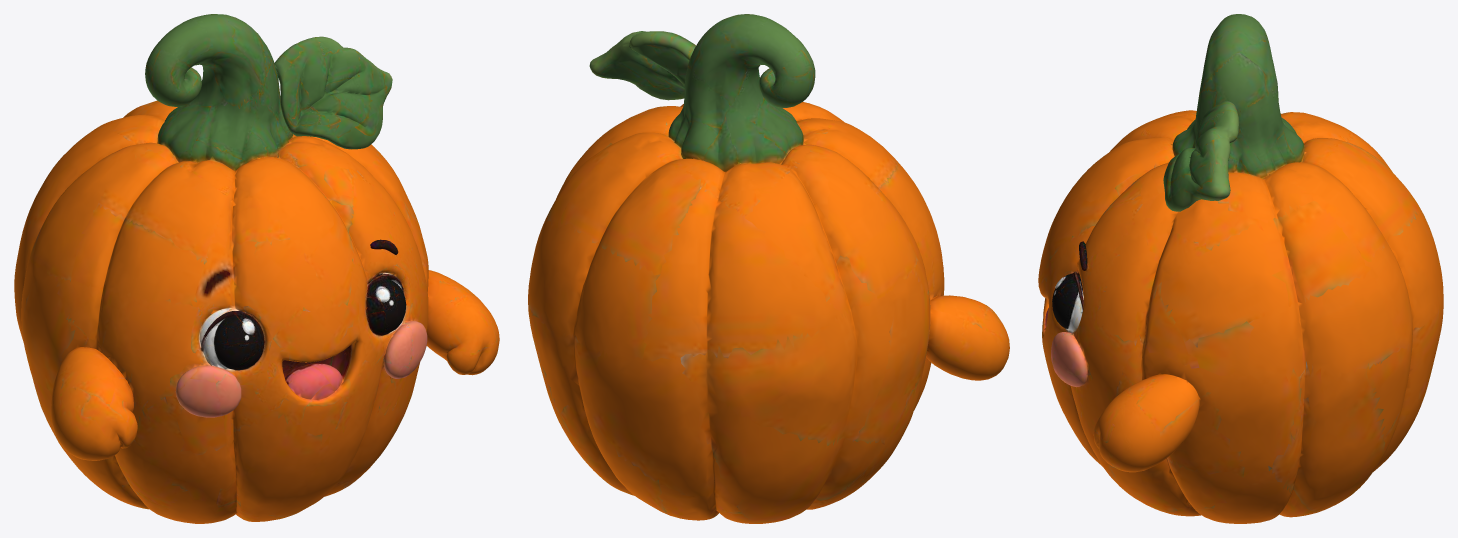
3 renders of one model, left to right at view 1: azimuth 30°, elevation 25°; view 2: azimuth 150°, elevation 25°; view 3: azimuth 270°, elevation 25°, orthographic. The views are drawn at different scales.
Bounding box in the file's own units: 1.83 × 1.9 × 1.52.
Materials: 1 (1 with a texture image).
